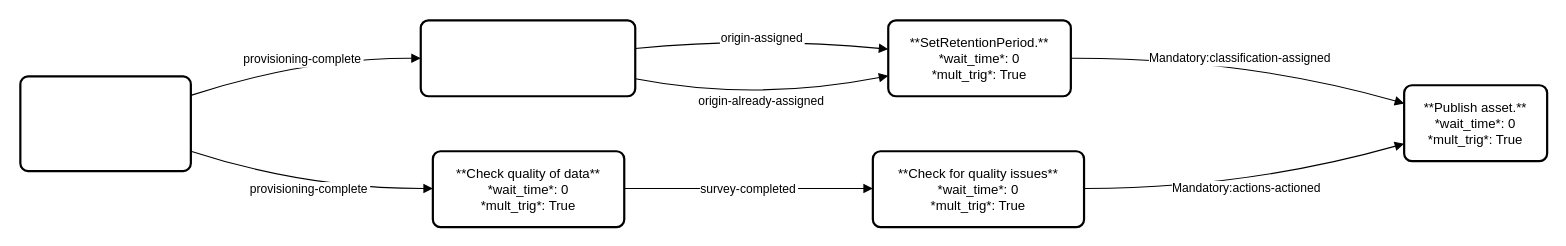
Image size: 1566x246. Some labels were removed from this diagram. The shapes that lost their labels are listed below. From the top down, each one's centre as x and y in pixels, then its label:
At pixel 527 58: "**Seek and validate origin** *wait_time*: 0 *mult_trig*: True".
At pixel 105 123: "**Move Weekly Measurements File** *nwait_time*: 0 *nmult_trig*: True".
